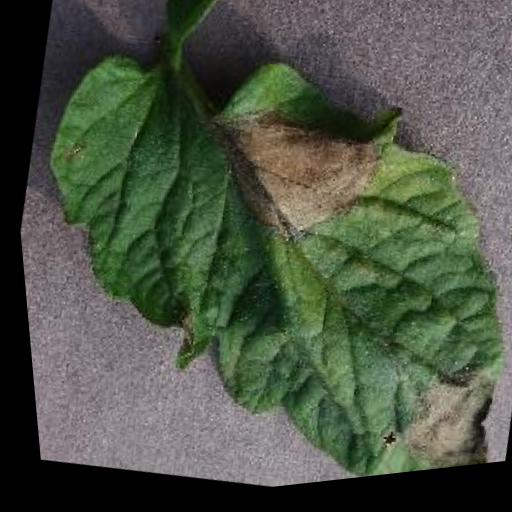Late Blight: (3, 0, 512, 512)
